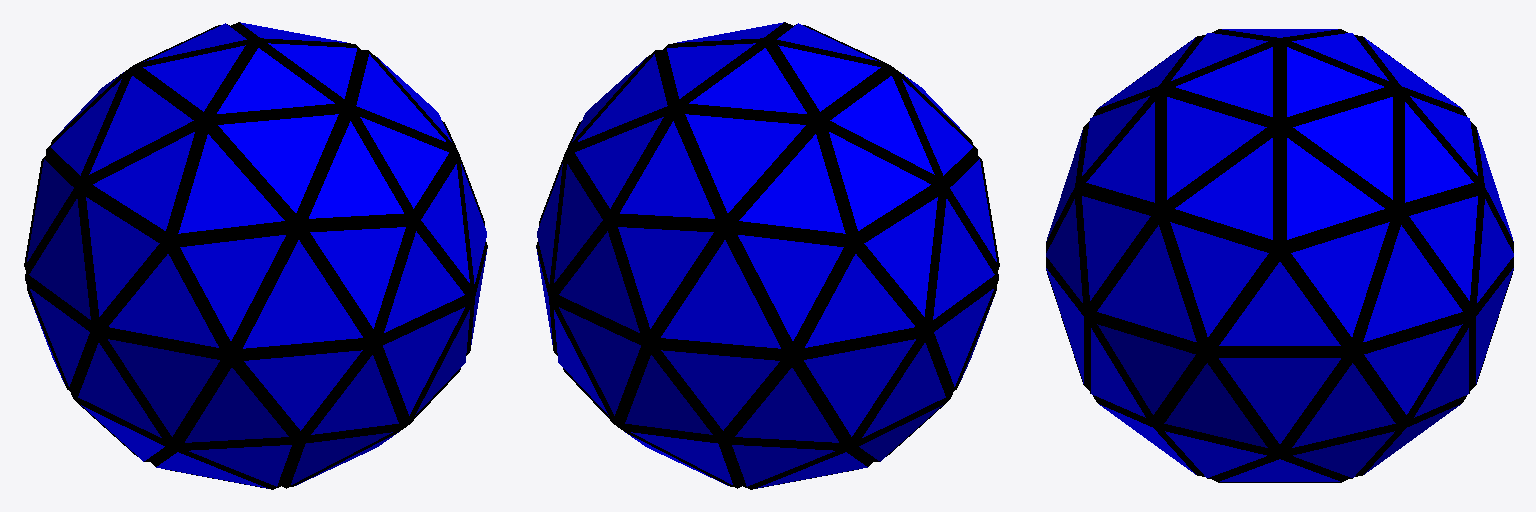
Rendered from BlueBiz.obj.
3 renders of one model, left to right at view 1: azimuth 30°, elevation 25°; view 2: azimuth 150°, elevation 25°; view 3: azimuth 270°, elevation 25°, orthographic.
Parts seen in each view (by area): view 1: Blue; view 2: Blue; view 3: Blue.
Boxes of the visible parts, <box> form: Blue: <box>24,22,487,489</box>; Blue: <box>536,22,999,489</box>; Blue: <box>1046,29,1513,482</box>.
Bounding box in the file's own units: 1.95 × 2.02 × 2.01.